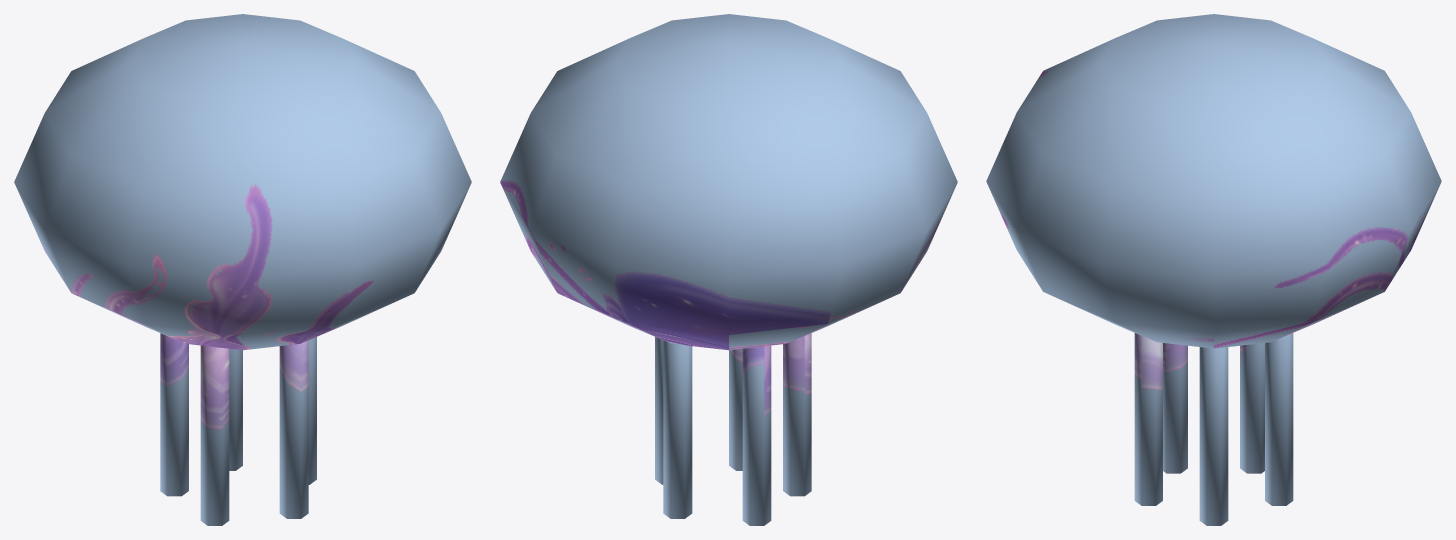
Rendered from jelly.glb.
3 renders of one model, left to right at view 1: azimuth 30°, elevation 25°; view 2: azimuth 150°, elevation 25°; view 3: azimuth 270°, elevation 25°, orthographic.
Visible parts, largest first — view 1: jelly_body; view 2: jelly_body; view 3: jelly_body.
Part boxes in pixels (x1=…): jelly_body: x1=14, y1=14, x2=471, y2=525; jelly_body: x1=500, y1=14, x2=957, y2=525; jelly_body: x1=986, y1=14, x2=1441, y2=525.
Size of the model in its own units: 0.9215 by 1 by 0.9215.
1 material, 1 textured.
